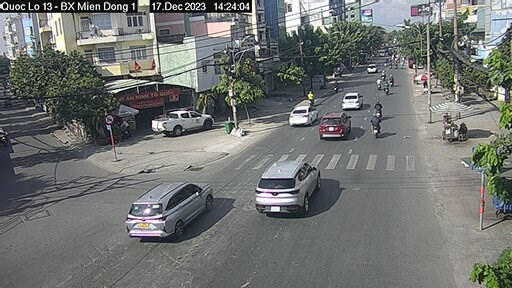car: (125, 179, 217, 244), (252, 158, 324, 220), (151, 109, 216, 137), (316, 109, 356, 145), (287, 99, 319, 127), (340, 89, 365, 112), (361, 60, 379, 78)
motorbike: (369, 114, 384, 137)
